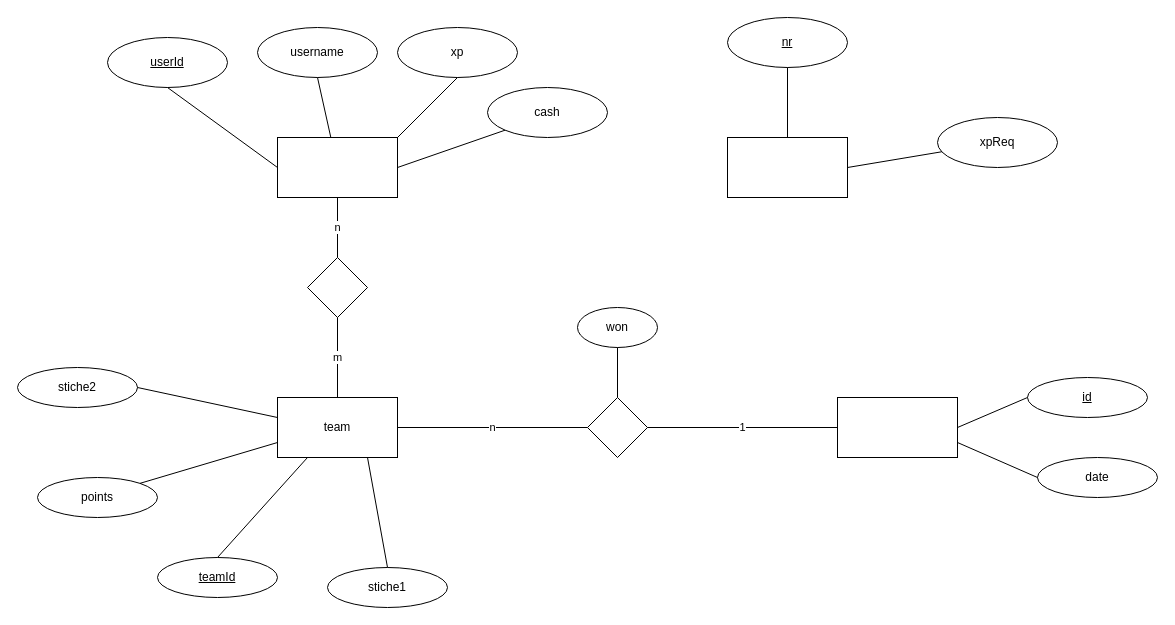
The diagram is 1175 pixels wide and 625 high, and some of its shapes have lost their labels. Here are the shapes that lost their labels. From the top down, the centre of each, then its label:
At (337,167): "user".
At (787,167): "level".
At (337,287): "playsIn".
At (617,427): "plays".
At (897,427): "game".
